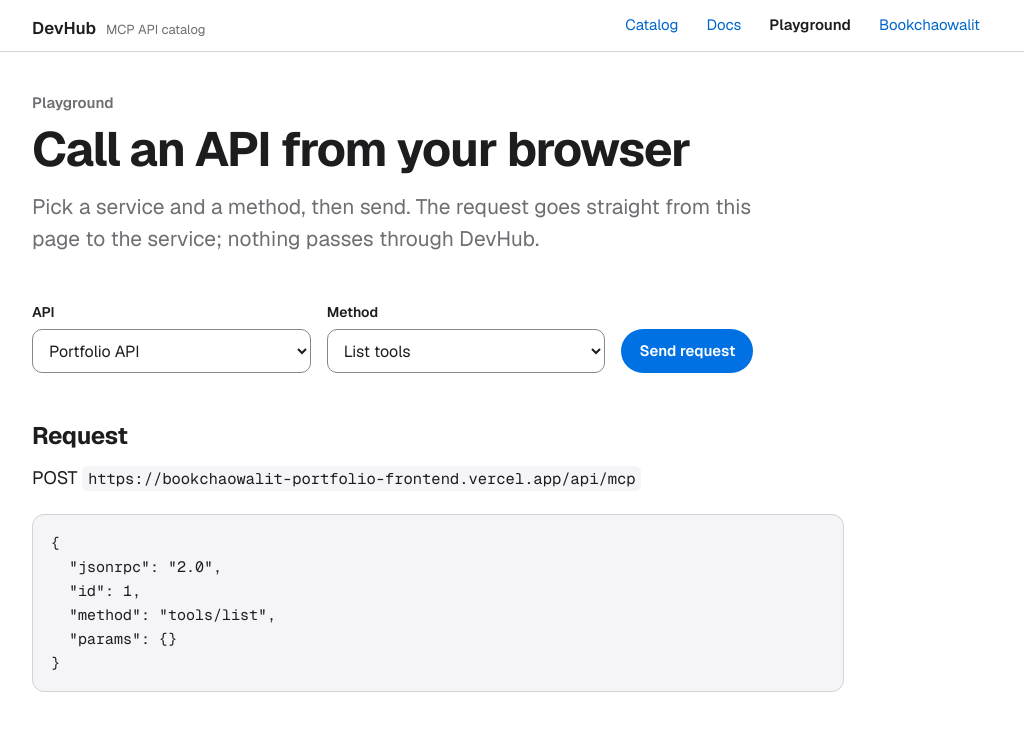
Scenario: playground races › an answer for a request made before the API changed is dropped
The width and height of the screenshot is (1024, 739).
Step 1. Submit the form, box [32,302,753,373]
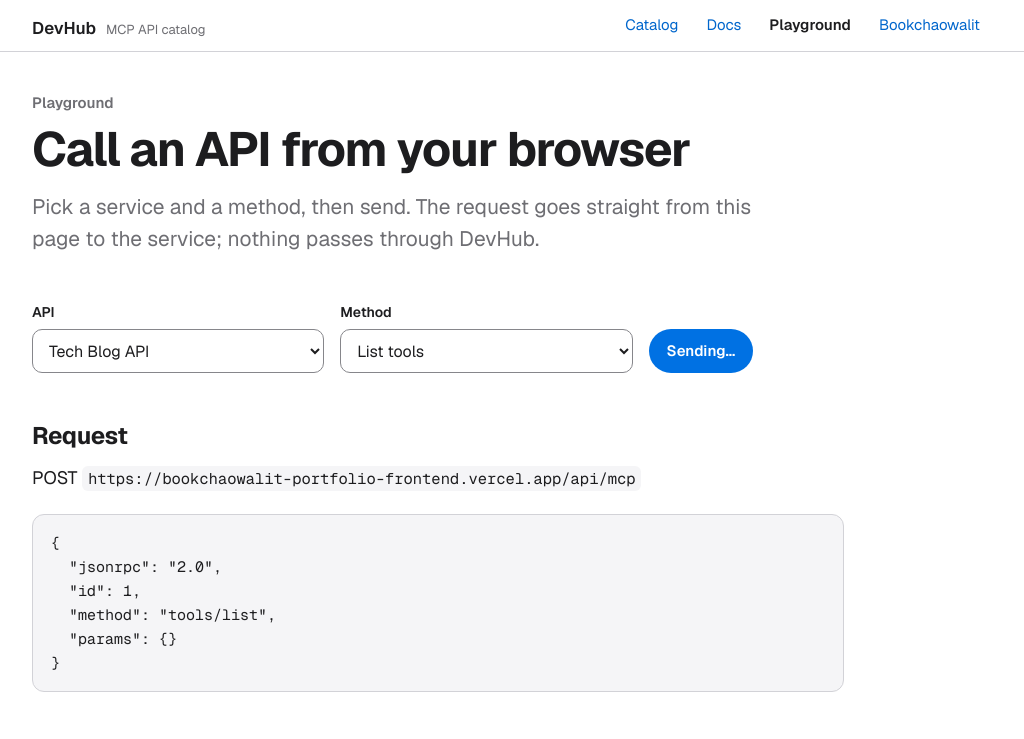
Step 2. Select "Tech Blog API" in the dropdown labelled "API" → point(178, 351), box [32,329,324,373]
(page scrolled)
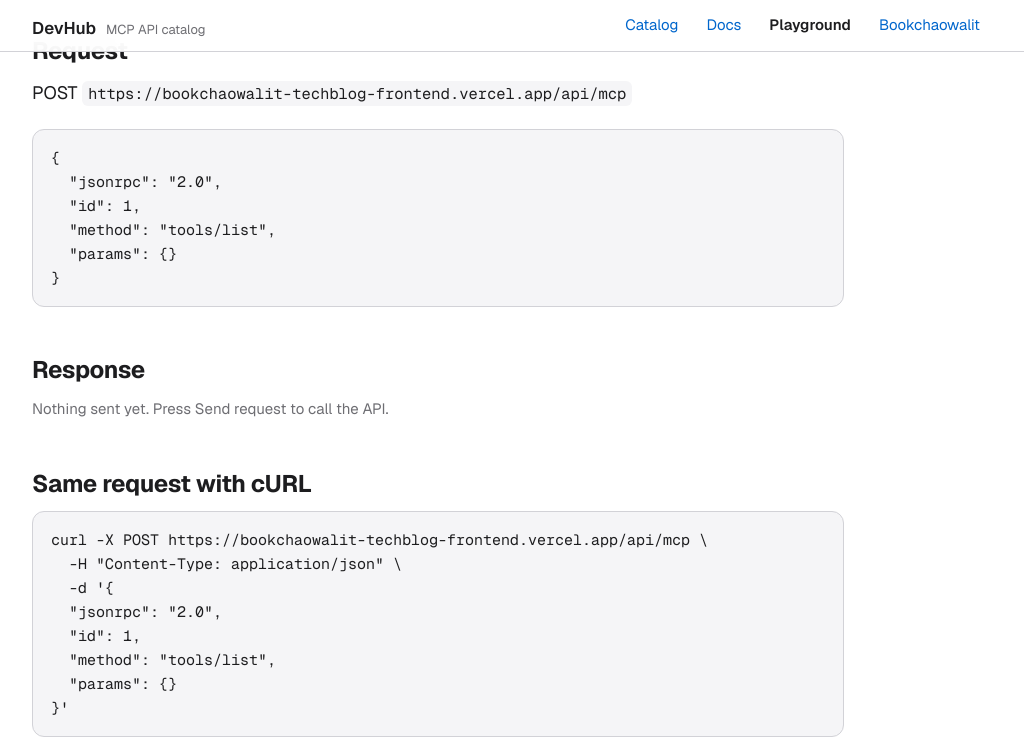
Expected: the message with class "dh-status" shows "Nothing sent yet", [32,399,389,418]
